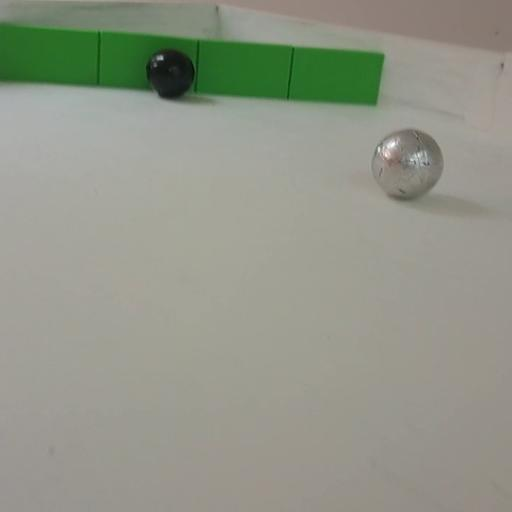alive: (371, 128, 444, 200)
dead: (146, 48, 194, 98)
